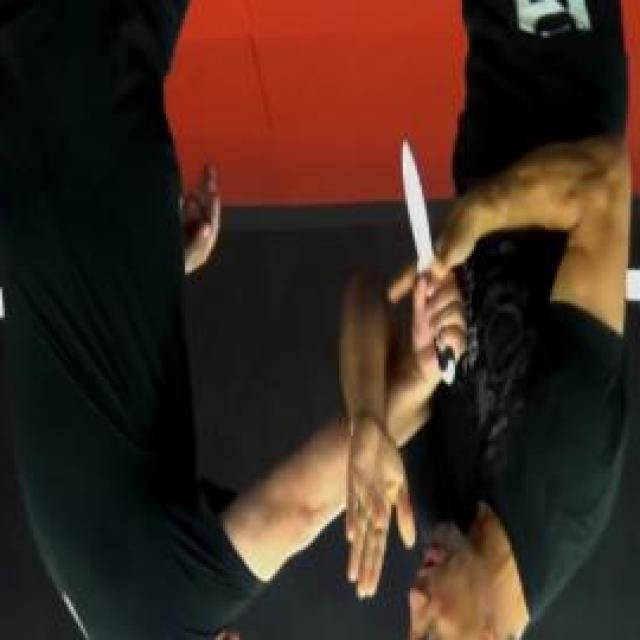knife: (398, 128, 469, 391)
